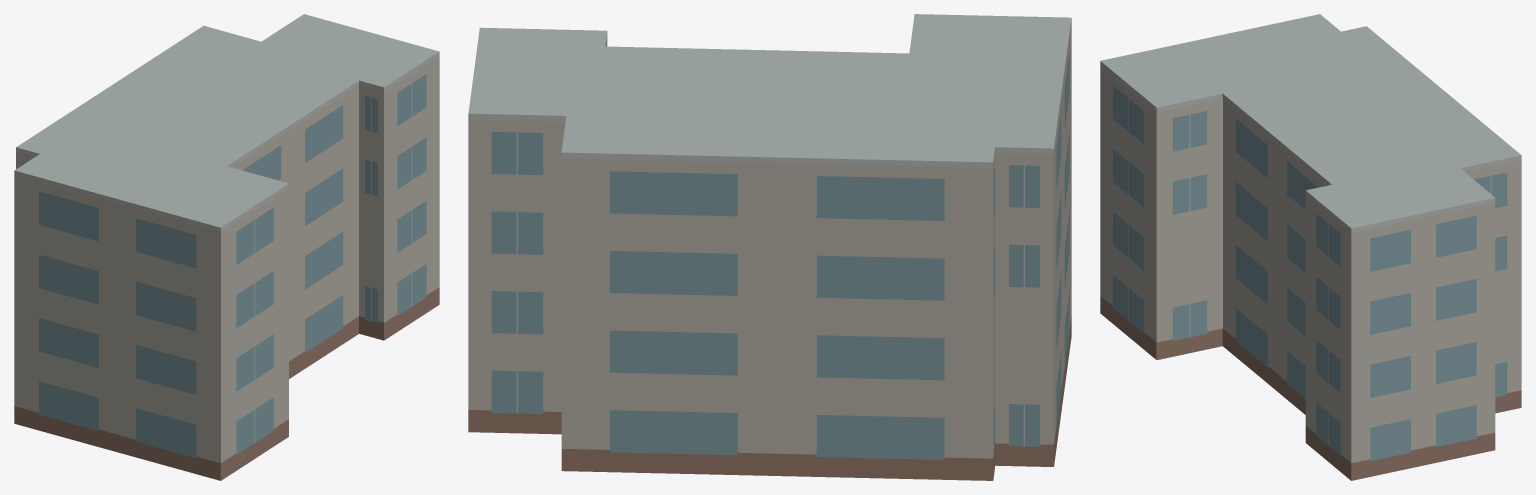
Rendered from survey-upis-32834798.glb.
3 views of the same model, side by side, from view 1: azimuth 30°, elevation 25°; view 2: azimuth 150°, elevation 25°; view 3: azimuth 270°, elevation 25° (orthographic). The views are drawn at different scales.
Parts seen in each view (by area): view 1: survey-upis-32834798.tmp; view 2: survey-upis-32834798.tmp; view 3: survey-upis-32834798.tmp.
Part boxes in pixels (x1,y1,x2,y2): survey-upis-32834798.tmp: (14,14,439,480); survey-upis-32834798.tmp: (468,14,1071,480); survey-upis-32834798.tmp: (1100,14,1521,480).
Bounding box in the file's own units: 24.6 × 13.5 × 20.43.
